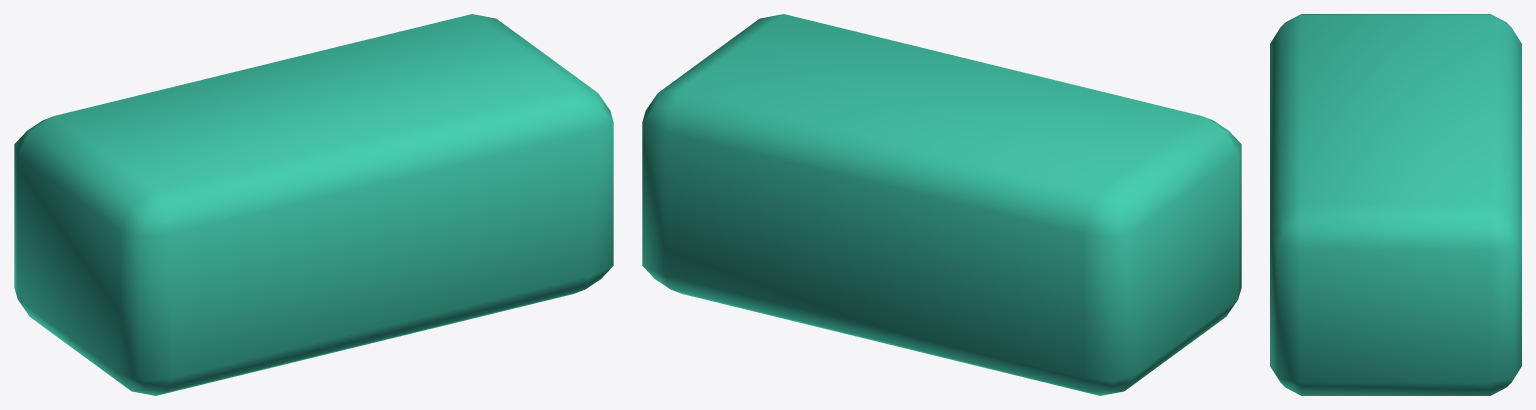
File: TurquoiseBrick.obj
3 views of the same model, side by side, from view 1: azimuth 30°, elevation 25°; view 2: azimuth 150°, elevation 25°; view 3: azimuth 270°, elevation 25° (orthographic). The views are drawn at different scales.
Parts seen in each view (by area): view 1: OriginalBrick_Cube.002; view 2: OriginalBrick_Cube.002; view 3: OriginalBrick_Cube.002.
Part boxes in pixels (x1,y1,x2,y2): OriginalBrick_Cube.002: [14, 14, 613, 395]; OriginalBrick_Cube.002: [642, 14, 1241, 395]; OriginalBrick_Cube.002: [1270, 14, 1521, 395].
Bounding box in the file's own units: 1 × 0.4 × 0.4795.
Materials: 1 (1 with a texture image).
